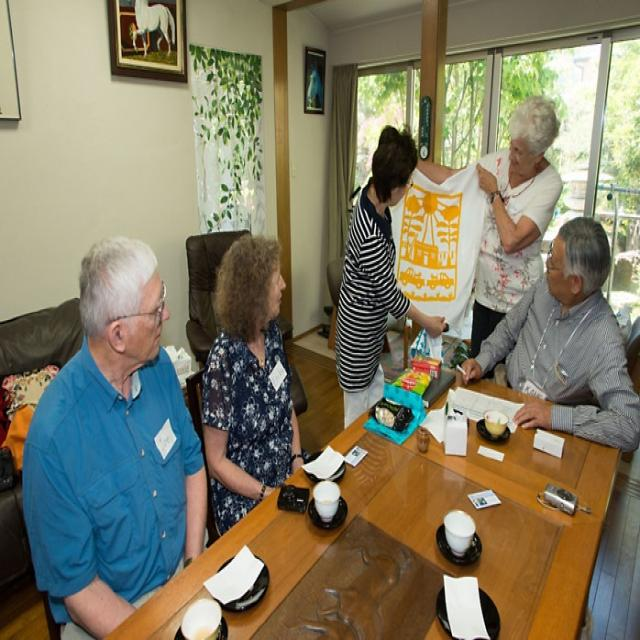body: (14, 232, 214, 640), (416, 92, 564, 385), (459, 214, 640, 453), (333, 122, 448, 430), (202, 232, 314, 545)
